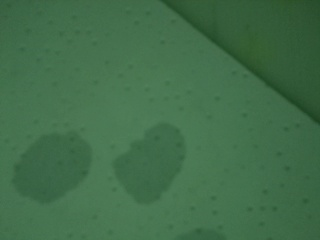Water_detected: (23, 131, 89, 189), (121, 128, 177, 192)
